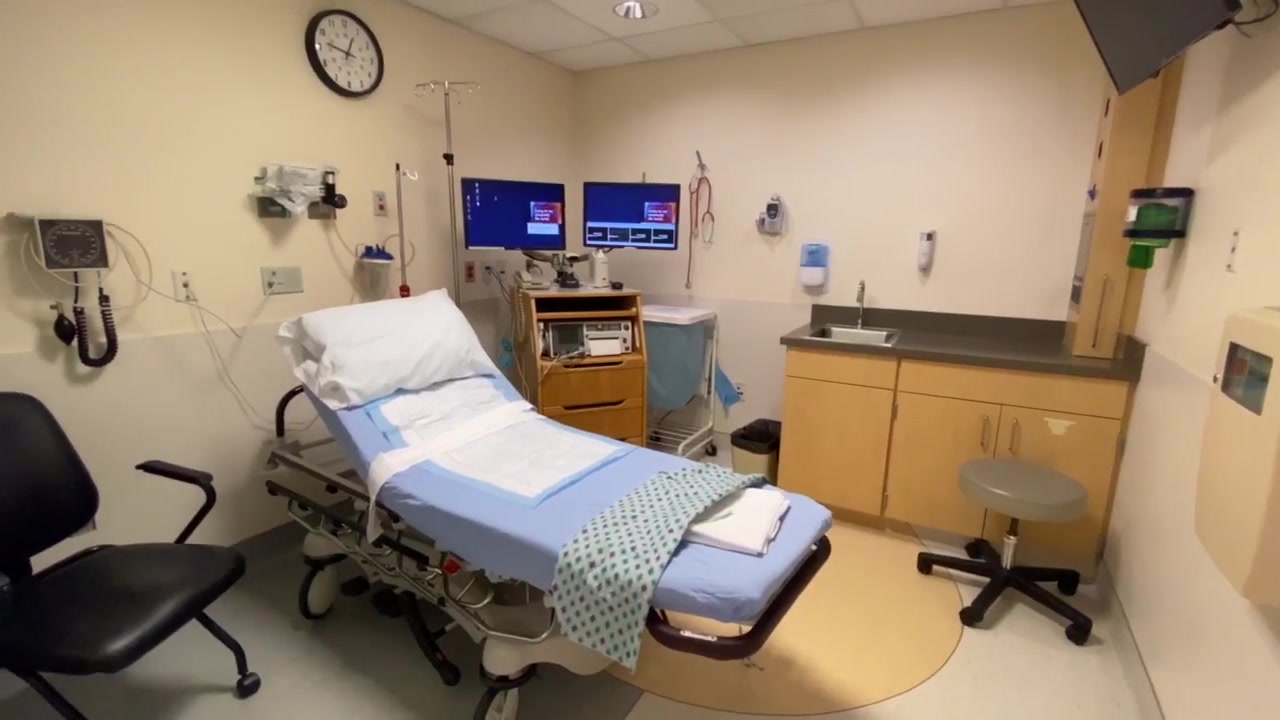TV: (1082, 1, 1238, 102)
cabinet: (778, 318, 1132, 587)
chair: (1, 391, 262, 720), (918, 461, 1092, 645)
computer: (462, 176, 566, 251), (583, 183, 681, 250)
countertop: (779, 319, 1133, 373)
dispenser: (800, 244, 828, 286), (916, 231, 938, 275)
drawer: (509, 282, 642, 447)
exam_table: (264, 287, 833, 716)
faucet: (855, 279, 868, 329)
handle: (1007, 417, 1019, 452), (979, 415, 991, 448)
iv_pole: (412, 80, 482, 315), (379, 153, 411, 298)
medical_waste_container: (1196, 310, 1280, 609)
sink: (805, 323, 904, 349)
telephone: (514, 271, 551, 291)
waste_bin: (641, 304, 719, 456), (731, 417, 781, 485)
